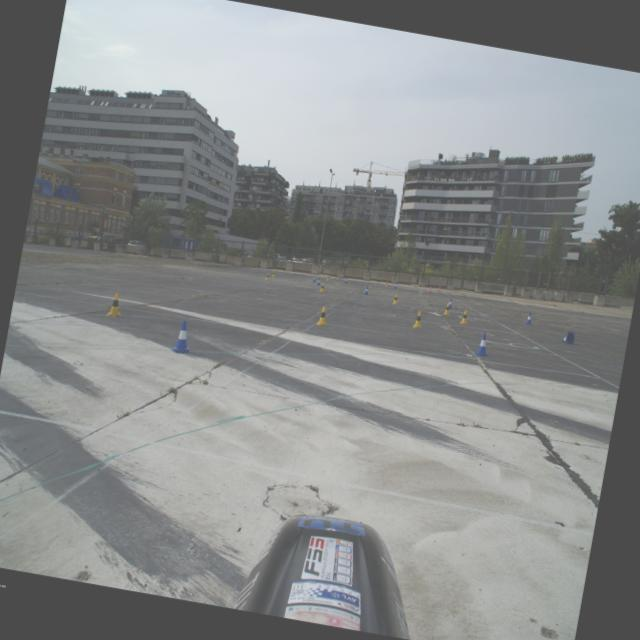blue_cone: (170, 318, 196, 356), (474, 332, 492, 356), (561, 331, 575, 344), (524, 312, 534, 325), (448, 298, 453, 308), (364, 286, 369, 294), (316, 277, 321, 285), (312, 275, 316, 282), (344, 278, 348, 284), (393, 282, 397, 288)
orange_cone: (428, 286, 432, 292), (437, 286, 441, 292)
yellow_cone: (105, 291, 125, 318), (316, 306, 330, 326), (412, 310, 424, 328), (458, 309, 471, 324), (442, 302, 452, 316), (392, 294, 399, 304), (318, 282, 325, 292), (264, 272, 270, 280), (271, 270, 276, 276), (326, 274, 330, 280), (384, 281, 388, 286)
